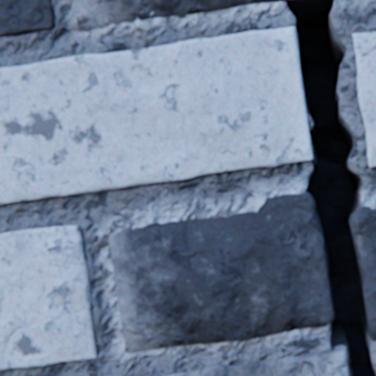brick: (0, 27, 312, 205), (0, 225, 97, 369), (142, 349, 348, 375), (353, 33, 375, 167), (0, 0, 55, 36)
broken_brick: (110, 192, 333, 351), (74, 0, 293, 30), (351, 206, 375, 340)
crack: (287, 0, 375, 375)
